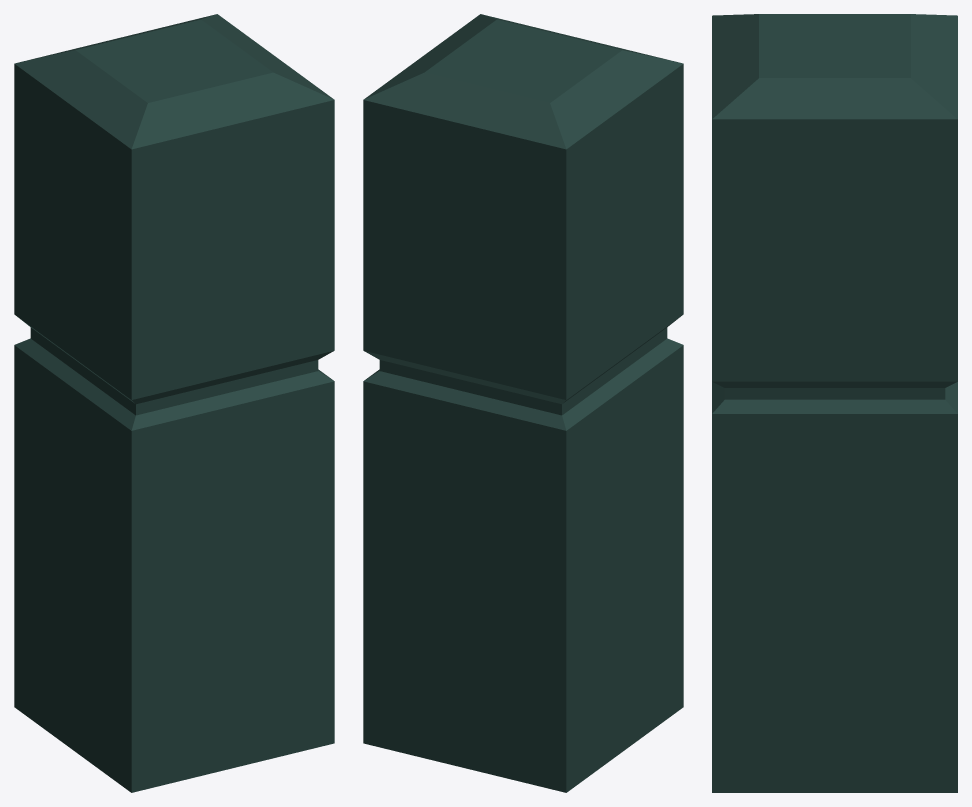
The model's file is gebouw1.fbx.
3 views of the same model, side by side, from view 1: azimuth 30°, elevation 25°; view 2: azimuth 150°, elevation 25°; view 3: azimuth 270°, elevation 25° (orthographic). The views are drawn at different scales.
Visible parts, largest first — view 1: polySurface29; view 2: polySurface29; view 3: polySurface29.
Part boxes in pixels (left/top/right/bottom): polySurface29: left=14, top=14, right=334, bottom=792; polySurface29: left=363, top=14, right=683, bottom=792; polySurface29: left=712, top=14, right=957, bottom=792.
Bounding box in the file's own units: 4.75 × 14.84 × 4.75.
